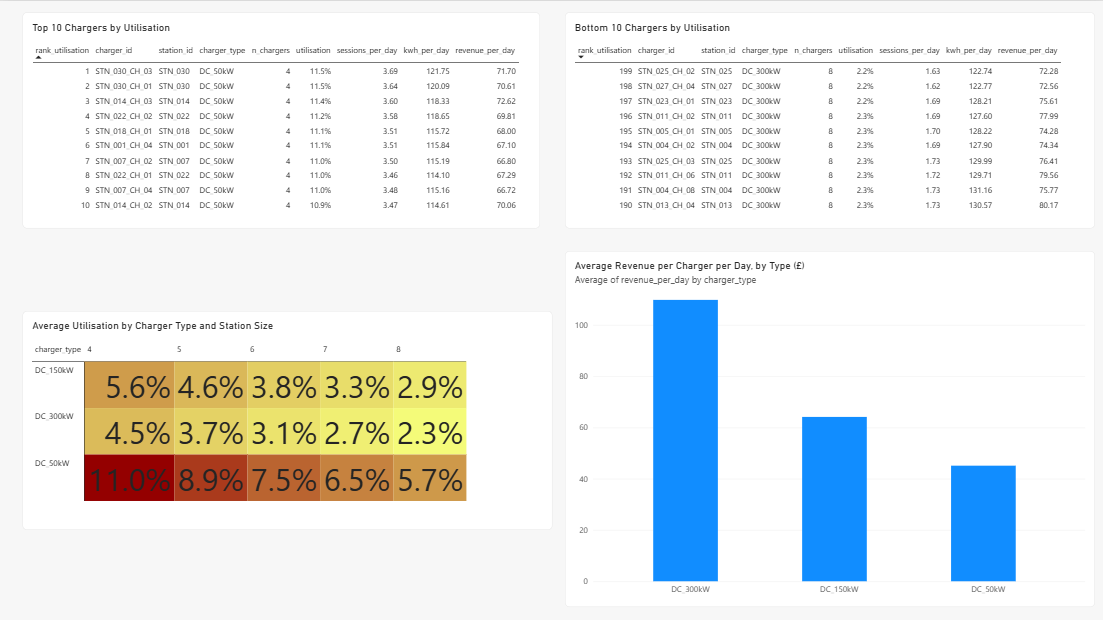

Layout of this report page (visuals, bound fields, positions):
{"tool":"powerbi","page":{"name":"Charger Ranking","canvas":[1920,1080],"ordinal":3},"visuals":[{"type":"tableEx","title":"Top 10 Chargers by Utilisation","fields":{"Values":["charger_metrics.rank_utilisation","charger_metrics.charger_id","charger_metrics.station_id","charger_metrics.charger_type","charger_metrics.n_chargers","charger_metrics.utilisation","charger_metrics.sessions_per_day","charger_metrics.kwh_per_day","charger_metrics.revenue_per_day"]},"box":[39.1,19.6,900,376.1],"z":0},{"type":"tableEx","title":"Bottom 10 Chargers by Utilisation","fields":{"Values":["charger_metrics.rank_utilisation","charger_metrics.charger_id","charger_metrics.station_id","charger_metrics.charger_type","charger_metrics.n_chargers","charger_metrics.utilisation","charger_metrics.sessions_per_day","charger_metrics.kwh_per_day","charger_metrics.revenue_per_day"]},"box":[982.6,19.6,921.7,376.1],"z":1},{"type":"pivotTable","title":"Average Utilisation by Charger Type and Station Size","fields":{"Columns":["charger_metrics.n_chargers"],"Rows":["charger_metrics.charger_type"],"Values":["Avg(charger_metrics.utilisation)"]},"box":[39.1,539.1,921.7,380.4],"z":2},{"type":"clusteredColumnChart","title":"Average Revenue per Charger per Day, by Type (£)","fields":{"Category":["charger_metrics.charger_type"],"Y":["Avg(charger_metrics.revenue_per_day)"]},"box":[982.6,434.8,921.7,619.6],"z":3}]}

Visuals, with their boxes in screenshot pixels (x1, y1, x2, y2), scaled from the page's 1920x1080 canvas onto the 1103x620 screenshot:
"Top 10 Chargers by Utilisation" tableEx: <bbox>22, 11, 539, 227</bbox>
"Bottom 10 Chargers by Utilisation" tableEx: <bbox>564, 11, 1094, 227</bbox>
"Average Utilisation by Charger Type and Station Size" pivotTable: <bbox>22, 309, 552, 528</bbox>
"Average Revenue per Charger per Day, by Type (£)" clusteredColumnChart: <bbox>564, 250, 1094, 605</bbox>
